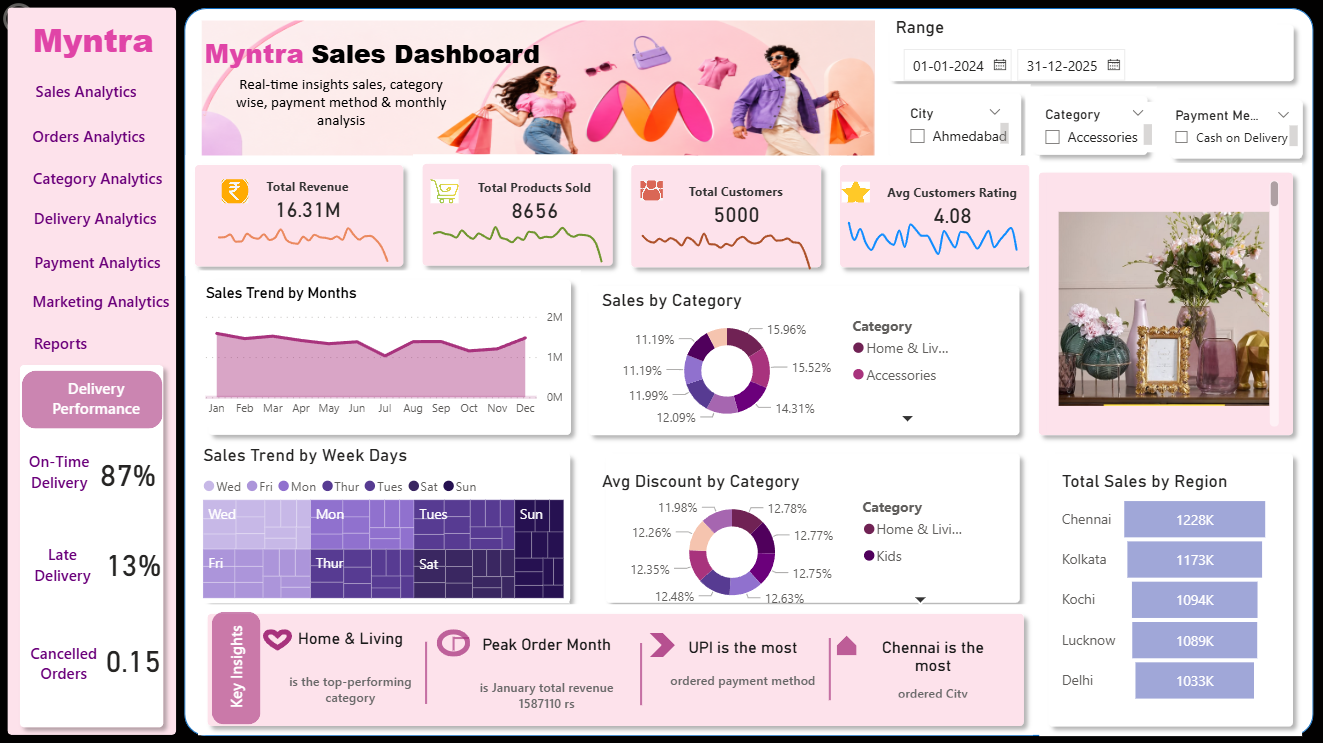

Layout of this report page (visuals, bound fields, positions):
{"tool":"powerbi","page":{"name":"Page 1","canvas":[1280,720],"ordinal":0},"visuals":[{"type":"shape","box":[180.2,9.3,1089.5,702.3],"z":0},{"type":"shape","title":"Date Range","box":[851.5,16.9,407.6,72.4],"z":1000},{"type":"slicer","title":"Range","fields":{"Values":["📦 Raw Sales Data.Order Date"]},"box":[861.1,18.1,372.7,61.5],"z":2000},{"type":"shape","box":[851.5,83.2,144.7,79.6],"z":3000},{"type":"image","box":[191.8,16.9,659.7,141.1],"z":4000},{"type":"shape","box":[195.4,35,103.7,35],"z":5000},{"type":"shape","title":"Shopping ","box":[299.1,26.5,226.7,53.1],"z":6000},{"type":"shape","title":"Shopping ","box":[223.1,69.9,215.9,60.3],"z":7000},{"type":"shape","box":[991.4,85.6,126.6,74.8],"z":8000},{"type":"shape","box":[1122.8,89.2,144.7,74.8],"z":9000},{"type":"slicer","fields":{"Values":["📦 Raw Sales Data.City"]},"box":[867.1,98.9,113.4,49.4],"z":10000},{"type":"slicer","fields":{"Values":["📦 Raw Sales Data.Category"]},"box":[997,100,121.2,48.5],"z":11000},{"type":"slicer","fields":{"Values":["📦 Raw Sales Data.Payment Method"]},"box":[1122.8,101.3,136.3,49.4],"z":12000},{"type":"shape","box":[180.9,151.5,219.1,116.2],"z":13000},{"type":"actionButton","box":[0,0,100,40],"z":14000},{"type":"card","fields":{"Values":["📦 Raw Sales Data.Total Revenue"]},"box":[232.4,153.5,126.8,77.5],"z":15000},{"type":"shape","box":[400.7,150.9,201.7,116.6],"z":16000},{"type":"card","fields":{"Values":["📦 Raw Sales Data.Total Sold Products"]},"box":[450.7,154.9,128.2,77.5],"z":17000},{"type":"lineChart","fields":{"Y":["📦 Raw Sales Data.Total Sold Products"],"Category":["📦 Raw Sales Data.Order Date.Variation.Date Hierarchy.Day"]},"box":[400.7,197.6,245.6,65.9],"z":18000},{"type":"lineChart","fields":{"Y":["📦 Raw Sales Data.Total Revenue"],"Category":["📦 Raw Sales Data.Order Date.Variation.Date Hierarchy.Day"]},"box":[193.3,198.3,246.7,65],"z":19000},{"type":"shape","box":[601.4,152.1,201.4,116.9],"z":20000},{"type":"image","box":[211.3,170.2,35.7,32.9],"z":21000},{"type":"image","box":[413,170.2,37,32.9],"z":22000},{"type":"card","fields":{"Values":["📦 Raw Sales Data.Total Customers"]},"box":[645.1,157.7,128.2,80.3],"z":23000},{"type":"lineChart","fields":{"Category":["📦 Raw Sales Data.Order Date.Variation.Date Hierarchy.Day"],"Y":["📦 Raw Sales Data.Total Customers"]},"box":[601.4,209.9,245.1,66.2],"z":24000},{"type":"image","box":[614.8,171.5,31.6,28.8],"z":25000},{"type":"shape","box":[802.8,152.1,201.4,116.9],"z":26000},{"type":"card","fields":{"Values":["📦 Raw Sales Data.Avg Customers Rating"]},"box":[845.3,159.2,145.5,81],"z":27000},{"type":"lineChart","fields":{"Category":["📦 Raw Sales Data.Order Date.Variation.Date Hierarchy.Day"],"Y":["📦 Raw Sales Data.Avg Customers Rating"]},"box":[801.4,199,245.6,65.9],"z":28000},{"type":"image","box":[809.6,172.9,37,30.2],"z":29000},{"type":"shape","box":[994.9,159.2,263.5,271.7],"z":30000},{"type":"shape","title":"Date Range","box":[194.1,263.2,367.6,167.6],"z":31000},{"type":"stackedAreaChart","title":"Sales Trend by Months","fields":{"Category":["📦 Raw Sales Data.Month"],"Y":["Sum(📦 Raw Sales Data.Revenue (₹))"]},"box":[194.9,275.8,355.4,137.2],"z":32000},{"type":"shape","title":"Date Range","box":[561.2,269,433.6,161.9],"z":33000},{"type":"donutChart","title":"Sales by Category","fields":{"Category":["📦 Raw Sales Data.Category"],"Y":["Sum(📦 Raw Sales Data.Revenue (₹))"]},"box":[577.7,281.3,356.8,137.2],"z":34000},{"type":"shape","title":"Date Range","box":[190.7,430.9,370.5,161.9],"z":35000},{"type":"treemap","title":"Sales Trend by Week Days","fields":{"Group":["📦 Raw Sales Data.Custom"],"Values":["Sum(📦 Raw Sales Data.Selling Price (₹))"],"Details":["📦 Raw Sales Data.Month"]},"box":[193.5,430.9,358.1,153.7],"z":36000},{"type":"shape","title":"Date Range","box":[577.7,430.9,417.2,161.9],"z":37000},{"type":"donutChart","title":"Avg Discount by Category","fields":{"Category":["📦 Raw Sales Data.Category"],"Y":["Avg(📦 Raw Sales Data.Discount (%))"]},"box":[577.7,455.6,370.5,137.2],"z":38000},{"type":"shape","title":"Date Range","box":[1004.5,430.9,253.9,281.3],"z":39000},{"type":"funnel","title":"Total Sales by Region","fields":{"Y":["Sum(📦 Raw Sales Data.Revenue (₹))"],"Category":["📦 Raw Sales Data.City"]},"box":[1020.9,455.6,211.3,229.2],"z":40000},{"type":"shape","title":"Date Range","box":[192.6,585.3,805.9,126.5],"z":41000},{"type":"shape","title":"Key Insights","box":[205.9,592.6,47.1,108.8],"z":42000},{"type":"shape","title":"Shopping ","box":[202.9,592.6,52.9,105.9],"z":43000},{"type":"shape","title":"Home & Living ","box":[266.2,608.8,147.1,89.7],"z":44000},{"type":"shape","box":[255.9,608.8,27.9,20.6],"z":45000},{"type":"shape","box":[392.6,620.6,39.7,60.3],"z":46000},{"type":"shape","title":"Peak Order Month ","box":[455.9,614.7,147.1,89.7],"z":47000},{"type":"shape","box":[423.5,608.8,32.4,26.5],"z":48000},{"type":"shape","box":[419.1,616.2,39.7,13.2],"z":49000},{"type":"shape","box":[439.7,600,14.7,33.8],"z":50000},{"type":"shape","box":[600,622.1,39.7,60.3],"z":51000},{"type":"shape","title":"UPI is the most ","box":[645.6,617.6,147.1,57.4],"z":52000},{"type":"shape","box":[782.4,617.6,39.7,60.3],"z":53000},{"type":"shape","box":[627.9,613.2,25,23.5],"z":54000},{"type":"shape","title":"Chennai is the most","box":[827.9,617.6,147.1,57.4],"z":55000},{"type":"shape","box":[808.8,614.7,19.1,19.1],"z":56000},{"type":"shape","title":"Date Range","box":[0,0,180.9,720.6],"z":57000},{"type":"shape","box":[23.5,13.2,135.3,52.9],"z":58000},{"type":"shape","title":"Date Range","box":[12.3,344.4,156.4,367.8],"z":59000},{"type":"card","fields":{"Values":["📦 Raw Sales Data.On Time Orders"]},"box":[93.3,437.7,65.9,42.5],"z":60000},{"type":"shape","title":"Key Insights","box":[23.3,359.5,135.8,56.3],"z":61000},{"type":"shape","title":"Shopping ","box":[30.2,359.5,129,52.1],"z":62000},{"type":"shape","title":"Shopping ","box":[9.6,430.9,98.8,53.5],"z":63000},{"type":"shape","title":"Shopping ","box":[22,520.1,81,52.1],"z":64000},{"type":"card","fields":{"Values":["📦 Raw Sales Data.Late Orders"]},"box":[90.6,524.2,81,42.5],"z":65000},{"type":"shape","title":"Shopping ","box":[27.4,614.8,71.4,53.5],"z":66000},{"type":"card","fields":{"Values":["📦 Raw Sales Data.Cancelled Order"]},"box":[90.6,617.5,81,42.5],"z":67000},{"type":"shape","title":"Shopping ","box":[11,63.1,148.2,53.5],"z":68000},{"type":"shape","title":"Shopping ","box":[11,105.7,153.7,53.5],"z":69000},{"type":"shape","title":"Shopping ","box":[16.5,185.2,153.7,53.5],"z":70000},{"type":"shape","title":"Shopping ","box":[19.2,227.8,153.7,53.5],"z":71000},{"type":"shape","title":"Shopping ","box":[19.2,146.8,153.7,53.5],"z":72000},{"type":"shape","title":"Shopping ","box":[26.1,264.8,145.5,53.5],"z":73000},{"type":"shape","title":"Shopping ","box":[11,306,98.8,53.5],"z":74000},{"type":"tableEx","fields":{"Values":["Table1.Image"]},"box":[1012.3,170.8,229.2,247.7],"z":75000}]}

Visuals, with their boxes on the page's 1280x720 design canvas (x1, y1, x2, y2). These are canvas units, not pixel positions in the 1323x743 screenshot, which may show the page scaled, cropped or inside an application window:
shape: bbox=[180, 9, 1270, 712]
"Date Range" shape: bbox=[852, 17, 1259, 89]
"Range" slicer: bbox=[861, 18, 1234, 80]
shape: bbox=[852, 83, 996, 163]
image: bbox=[192, 17, 852, 158]
shape: bbox=[195, 35, 299, 70]
"Shopping " shape: bbox=[299, 26, 526, 80]
"Shopping " shape: bbox=[223, 70, 439, 130]
shape: bbox=[991, 86, 1118, 160]
shape: bbox=[1123, 89, 1268, 164]
slicer - 📦 Raw Sales Data.City: bbox=[867, 99, 980, 148]
slicer - 📦 Raw Sales Data.Category: bbox=[997, 100, 1118, 148]
slicer - 📦 Raw Sales Data.Payment Method: bbox=[1123, 101, 1259, 151]
shape: bbox=[181, 152, 400, 268]
actionButton: bbox=[0, 0, 100, 40]
card - 📦 Raw Sales Data.Total Revenue: bbox=[232, 154, 359, 231]
shape: bbox=[401, 151, 602, 268]
card - 📦 Raw Sales Data.Total Sold Products: bbox=[451, 155, 579, 232]
lineChart - 📦 Raw Sales Data.Total Sold Products x 📦 Raw Sales Data.Order Date.Variation.Date Hierarchy.Day: bbox=[401, 198, 646, 264]
lineChart - 📦 Raw Sales Data.Total Revenue x 📦 Raw Sales Data.Order Date.Variation.Date Hierarchy.Day: bbox=[193, 198, 440, 263]
shape: bbox=[601, 152, 803, 269]
image: bbox=[211, 170, 247, 203]
image: bbox=[413, 170, 450, 203]
card - 📦 Raw Sales Data.Total Customers: bbox=[645, 158, 773, 238]
lineChart - 📦 Raw Sales Data.Order Date.Variation.Date Hierarchy.Day x 📦 Raw Sales Data.Total Customers: bbox=[601, 210, 846, 276]
image: bbox=[615, 172, 646, 200]
shape: bbox=[803, 152, 1004, 269]
card - 📦 Raw Sales Data.Avg Customers Rating: bbox=[845, 159, 991, 240]
lineChart - 📦 Raw Sales Data.Order Date.Variation.Date Hierarchy.Day x 📦 Raw Sales Data.Avg Customers Rating: bbox=[801, 199, 1047, 265]
image: bbox=[810, 173, 847, 203]
shape: bbox=[995, 159, 1258, 431]
"Date Range" shape: bbox=[194, 263, 562, 431]
"Sales Trend by Months" stackedAreaChart: bbox=[195, 276, 550, 413]
"Date Range" shape: bbox=[561, 269, 995, 431]
"Sales by Category" donutChart: bbox=[578, 281, 934, 418]
"Date Range" shape: bbox=[191, 431, 561, 593]
"Sales Trend by Week Days" treemap: bbox=[194, 431, 552, 585]
"Date Range" shape: bbox=[578, 431, 995, 593]
"Avg Discount by Category" donutChart: bbox=[578, 456, 948, 593]
"Date Range" shape: bbox=[1004, 431, 1258, 712]
"Total Sales by Region" funnel: bbox=[1021, 456, 1232, 685]
"Date Range" shape: bbox=[193, 585, 998, 712]
"Key Insights" shape: bbox=[206, 593, 253, 701]
"Shopping " shape: bbox=[203, 593, 256, 698]
"Home & Living " shape: bbox=[266, 609, 413, 698]
shape: bbox=[256, 609, 284, 629]
shape: bbox=[393, 621, 432, 681]
"Peak Order Month " shape: bbox=[456, 615, 603, 704]
shape: bbox=[424, 609, 456, 635]
shape: bbox=[419, 616, 459, 629]
shape: bbox=[440, 600, 454, 634]
shape: bbox=[600, 622, 640, 682]
"UPI is the most " shape: bbox=[646, 618, 793, 675]
shape: bbox=[782, 618, 822, 678]
shape: bbox=[628, 613, 653, 637]
"Chennai is the most" shape: bbox=[828, 618, 975, 675]
shape: bbox=[809, 615, 828, 634]
"Date Range" shape: bbox=[0, 0, 181, 721]
shape: bbox=[24, 13, 159, 66]
"Date Range" shape: bbox=[12, 344, 169, 712]
card - 📦 Raw Sales Data.On Time Orders: bbox=[93, 438, 159, 480]
"Key Insights" shape: bbox=[23, 360, 159, 416]
"Shopping " shape: bbox=[30, 360, 159, 412]
"Shopping " shape: bbox=[10, 431, 108, 484]
"Shopping " shape: bbox=[22, 520, 103, 572]
card - 📦 Raw Sales Data.Late Orders: bbox=[91, 524, 172, 567]
"Shopping " shape: bbox=[27, 615, 99, 668]
card - 📦 Raw Sales Data.Cancelled Order: bbox=[91, 618, 172, 660]
"Shopping " shape: bbox=[11, 63, 159, 117]
"Shopping " shape: bbox=[11, 106, 165, 159]
"Shopping " shape: bbox=[16, 185, 170, 239]
"Shopping " shape: bbox=[19, 228, 173, 281]
"Shopping " shape: bbox=[19, 147, 173, 200]
"Shopping " shape: bbox=[26, 265, 172, 318]
"Shopping " shape: bbox=[11, 306, 110, 360]
tableEx - Table1.Image: bbox=[1012, 171, 1242, 418]
